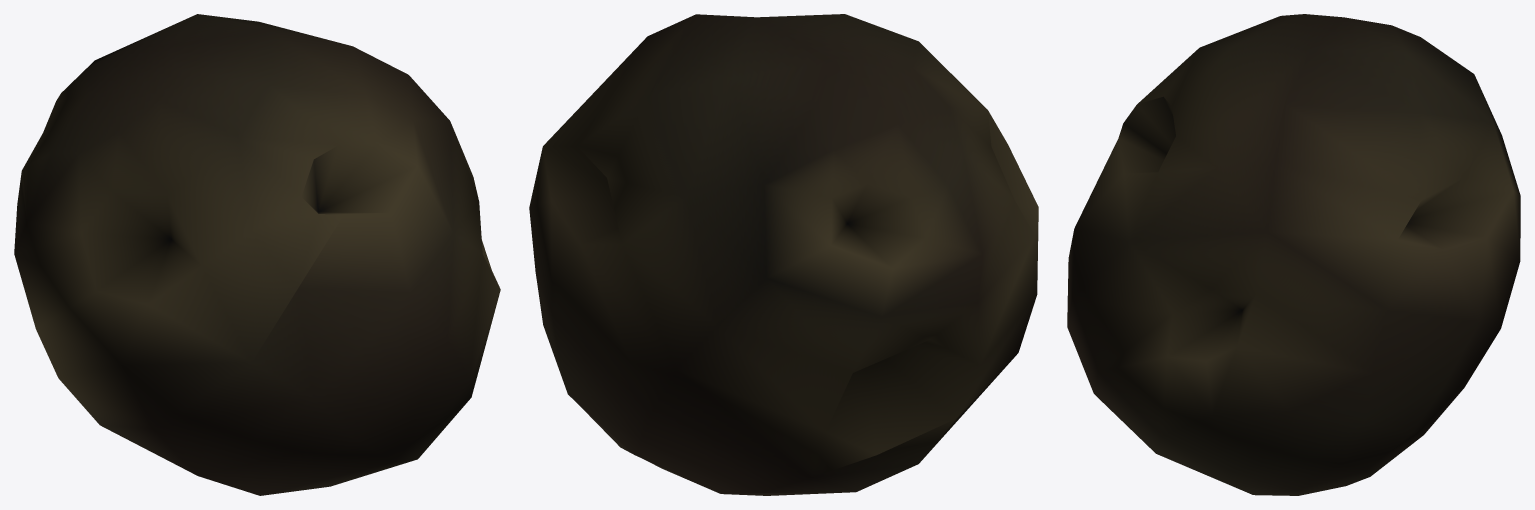
File: NutRock.fbx
3 renders of one model, left to right at view 1: azimuth 30°, elevation 25°; view 2: azimuth 150°, elevation 25°; view 3: azimuth 270°, elevation 25°, orthographic. The views are drawn at different scales.
Parts seen in each view (by area): view 1: Rock; view 2: Rock; view 3: Rock.
Part boxes in pixels (bbox=[...]): Rock: bbox=[14, 14, 500, 495]; Rock: bbox=[529, 14, 1038, 495]; Rock: bbox=[1067, 14, 1520, 495].
Bounding box in the file's own units: 1.12 × 1.13 × 1.1.
